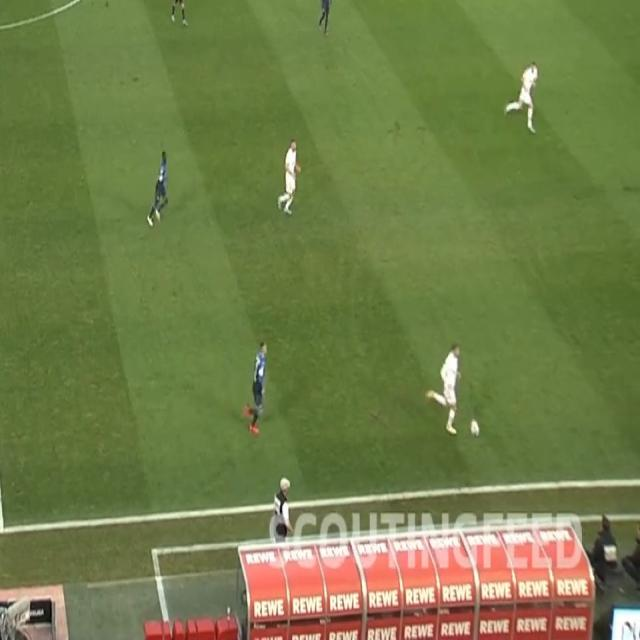ball: (470, 418, 480, 439)
